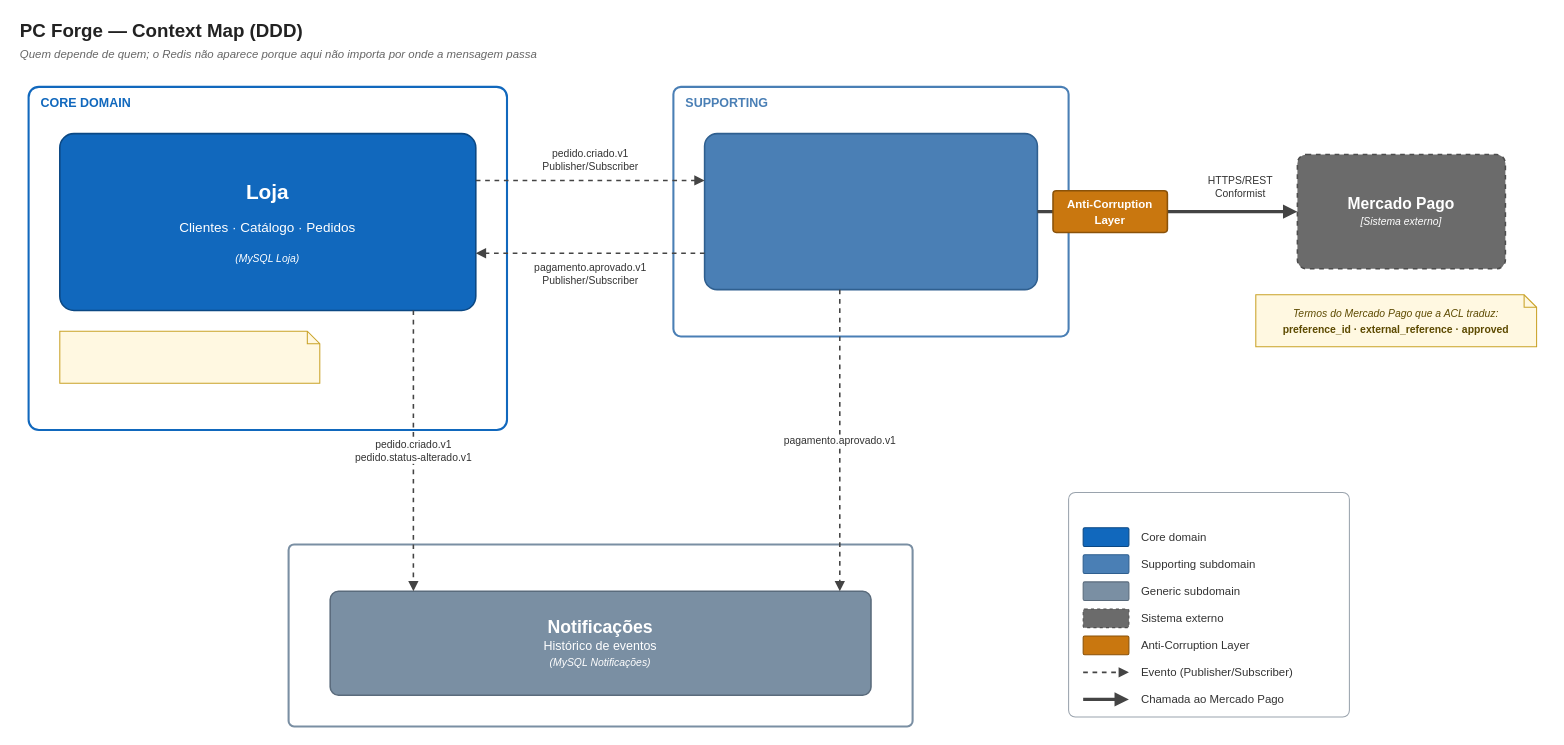
The diagram is 1564 pixels wide and 745 high, and some of its shapes have lost their labels. The box of each missing label's shape, as (x1, y1, x2, y2) in pixels:
GENERIC: (287, 543, 913, 727)
invariante: não vender o que não há em estoque: (59, 330, 320, 383)
Legenda: (1068, 491, 1349, 717)
Pagamentos Transações · Preferências (MySQL Pagamentos): (703, 132, 1038, 290)
